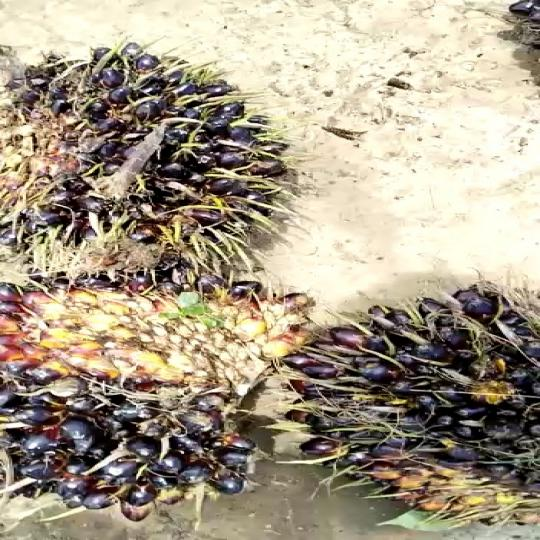mentah: (1, 261, 326, 505), (0, 15, 296, 274), (314, 281, 540, 519)
